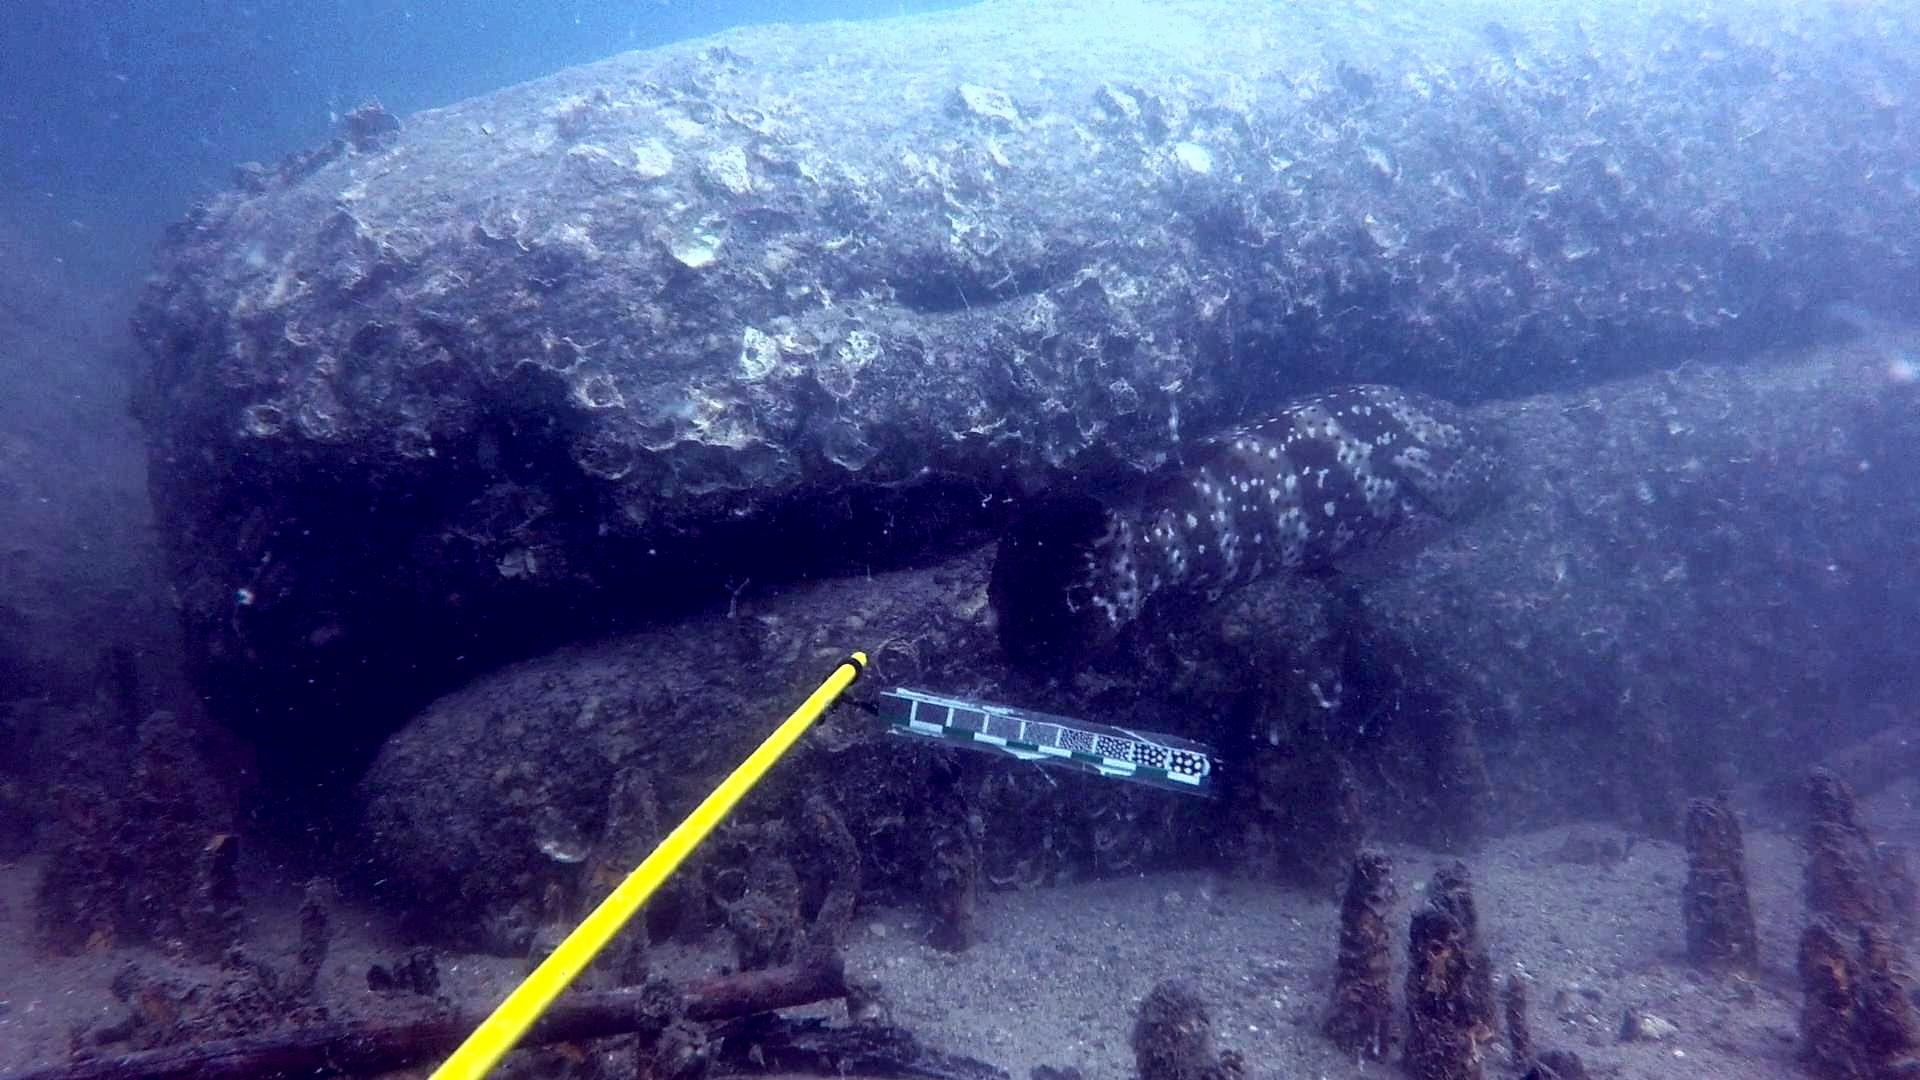epinephelus: (978, 371, 1545, 694)
